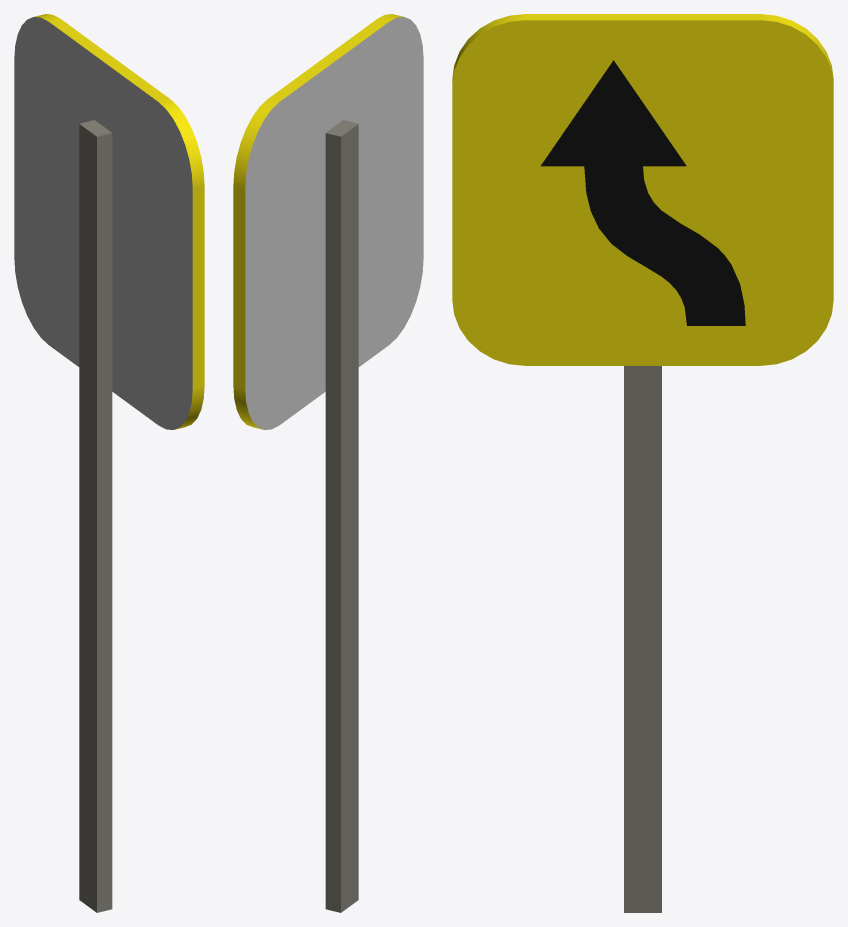
Rendered from Prop_Track_Sign_Upcoming_Esse.obj.
3 renders of one model, left to right at view 1: azimuth 30°, elevation 25°; view 2: azimuth 150°, elevation 25°; view 3: azimuth 270°, elevation 25°, orthographic. The views are drawn at different scales.
Visible parts, largest first — view 1: object2, object1; view 2: object2, object1; view 3: object2, object1.
Boxes of the visible parts, x1,y1,x2,y2 form: object2: (14, 14, 204, 429); object1: (79, 120, 112, 912); object2: (233, 14, 423, 429); object1: (325, 120, 358, 912); object2: (452, 14, 833, 365); object1: (624, 366, 661, 912).
Bounding box in the file's own units: 0.0457 × 1.34 × 0.5161.
